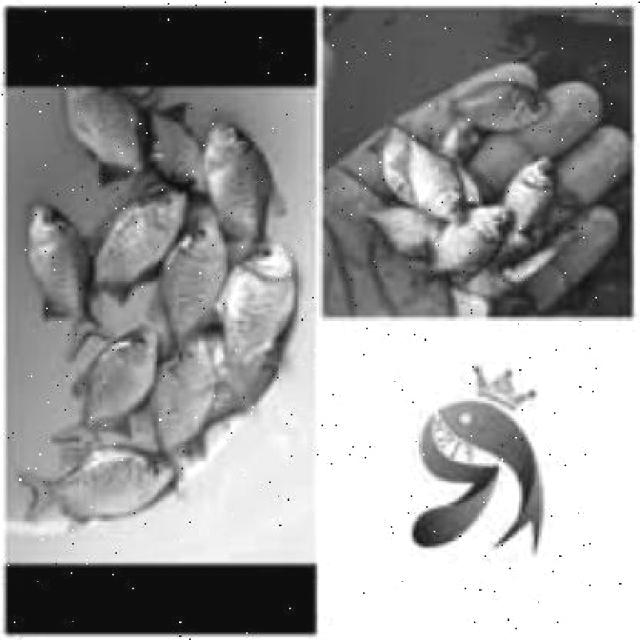ikan-pacu: (216, 240, 298, 397), (18, 195, 102, 338), (32, 448, 174, 524), (73, 323, 164, 434), (198, 118, 273, 242), (97, 178, 183, 286), (56, 86, 144, 179), (172, 220, 228, 328)
